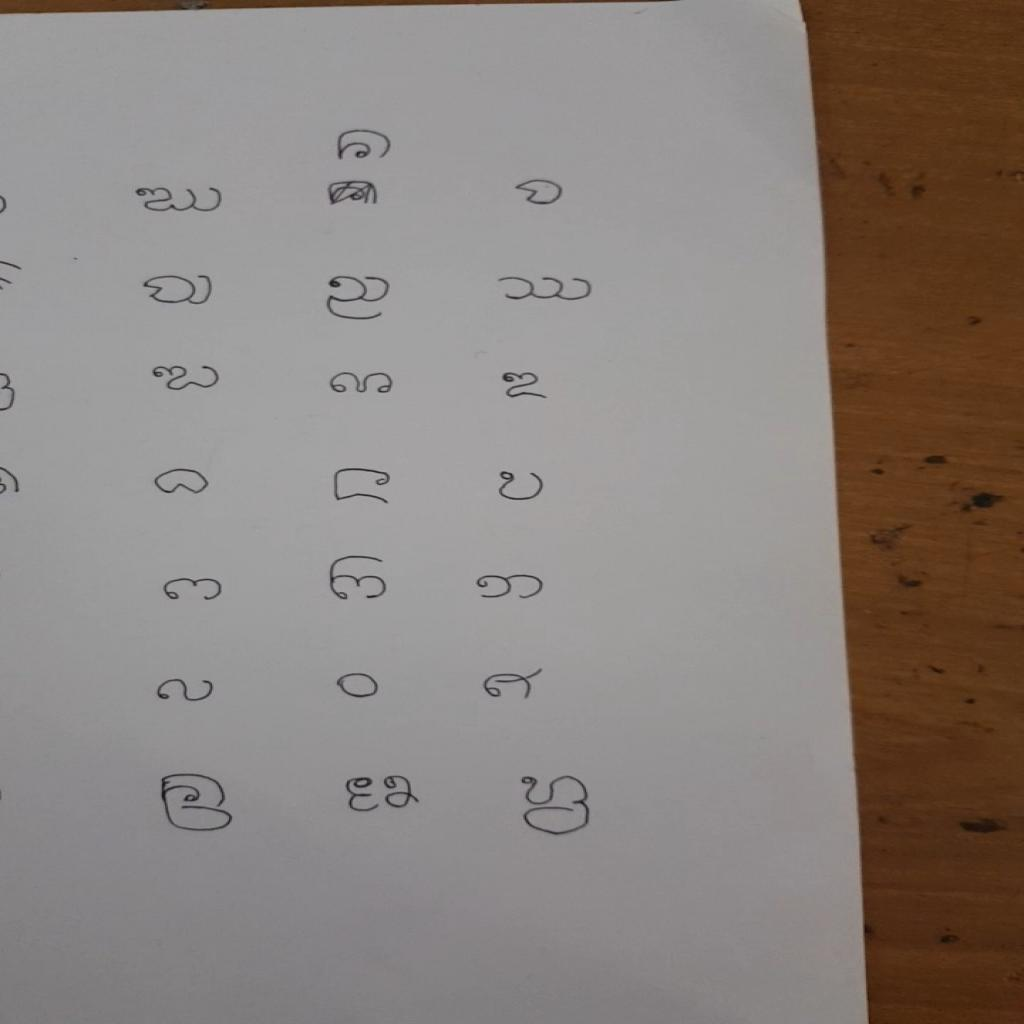LN004: (133, 185, 231, 217)
LN005: (330, 127, 399, 164)
LN006: (510, 178, 572, 210)
LN010: (137, 273, 220, 309)
LN011: (322, 274, 398, 324)
LN012: (492, 274, 599, 306)
LN016: (148, 364, 227, 395)
LN017: (324, 370, 400, 398)
LN018: (499, 370, 555, 404)
LN022: (148, 466, 217, 499)
LN023: (327, 465, 396, 508)
LN024: (494, 469, 552, 505)
LN028: (157, 576, 229, 605)
LN029: (323, 553, 393, 605)
LN030: (471, 572, 552, 604)
LN034: (152, 676, 222, 707)
LN035: (331, 671, 387, 703)
LN036: (478, 666, 552, 705)
LN040: (155, 771, 241, 836)
LN041: (338, 773, 427, 818)
LN042: (514, 773, 599, 840)
